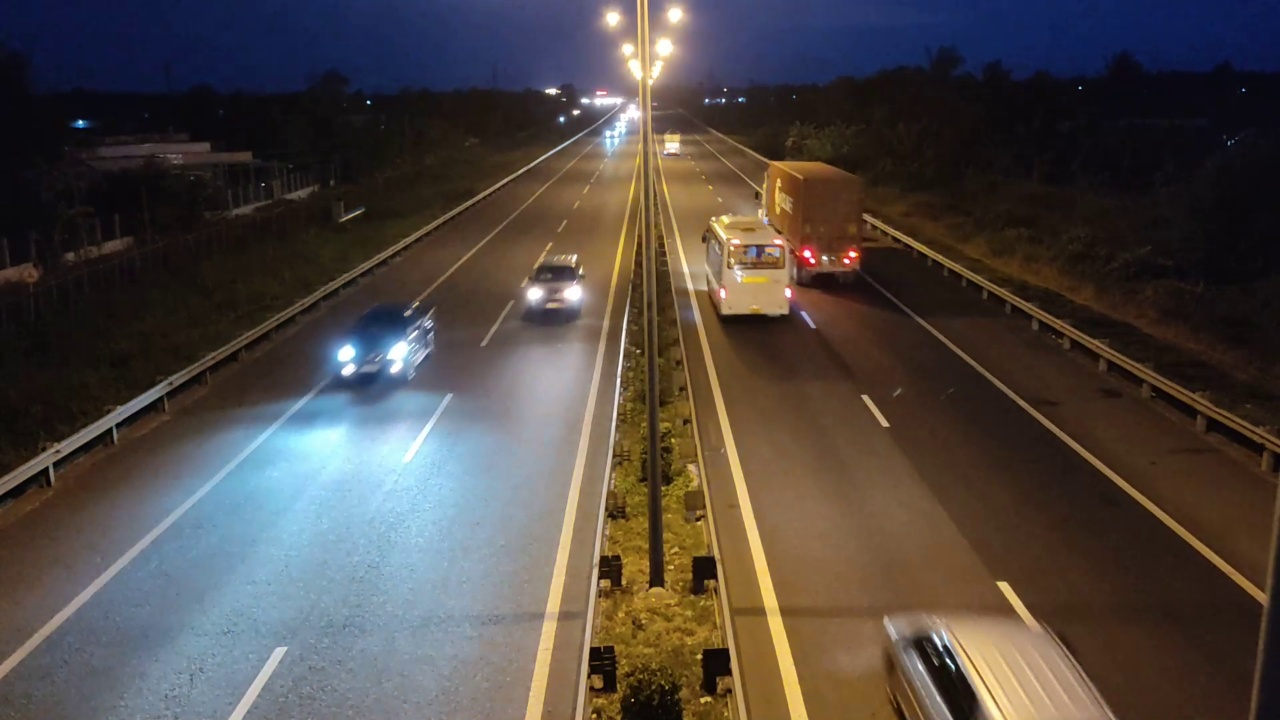bus: (701, 212, 793, 320)
car: (330, 300, 438, 386), (519, 254, 587, 324)
truck: (761, 159, 866, 286)
